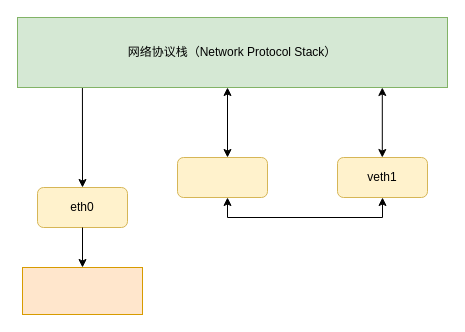
This 465x332 diagram has some shape labels left out. The centre of each missing label's shape, as x and y in pixels:
"veth0" belongs at [222,177].
"物理网卡" belongs at [82,290].
